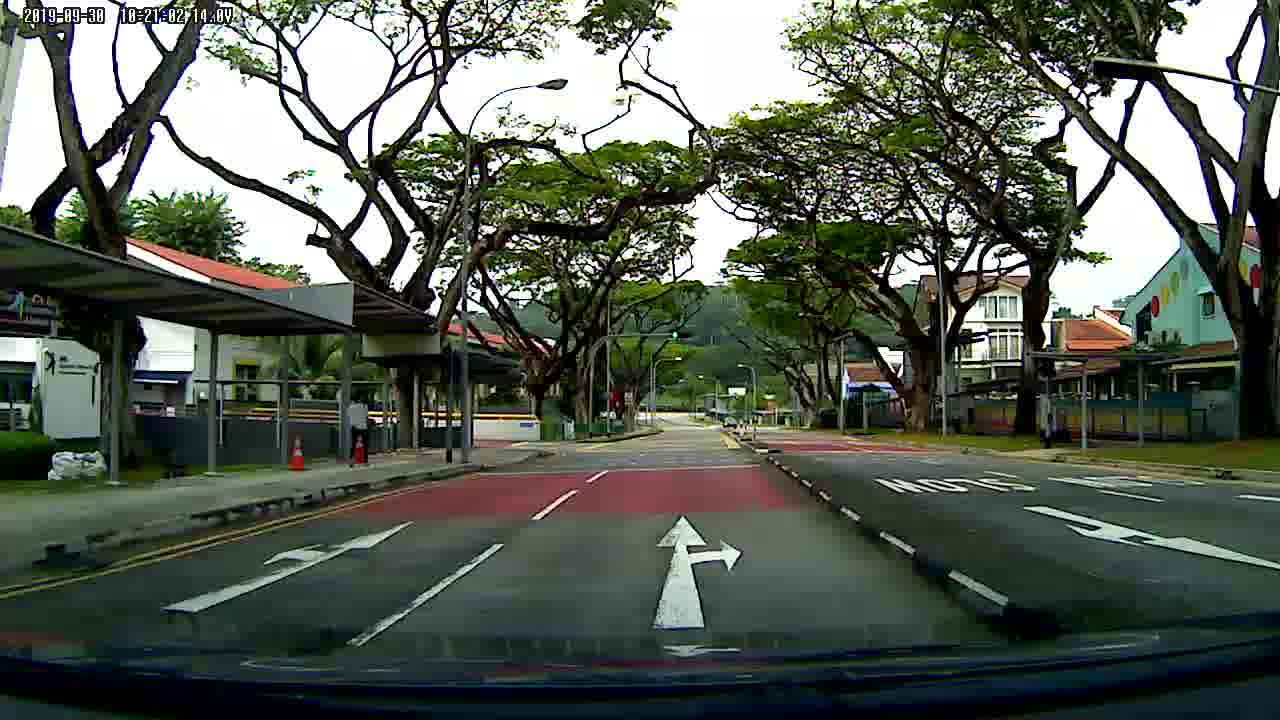car: (720, 414, 742, 429)
